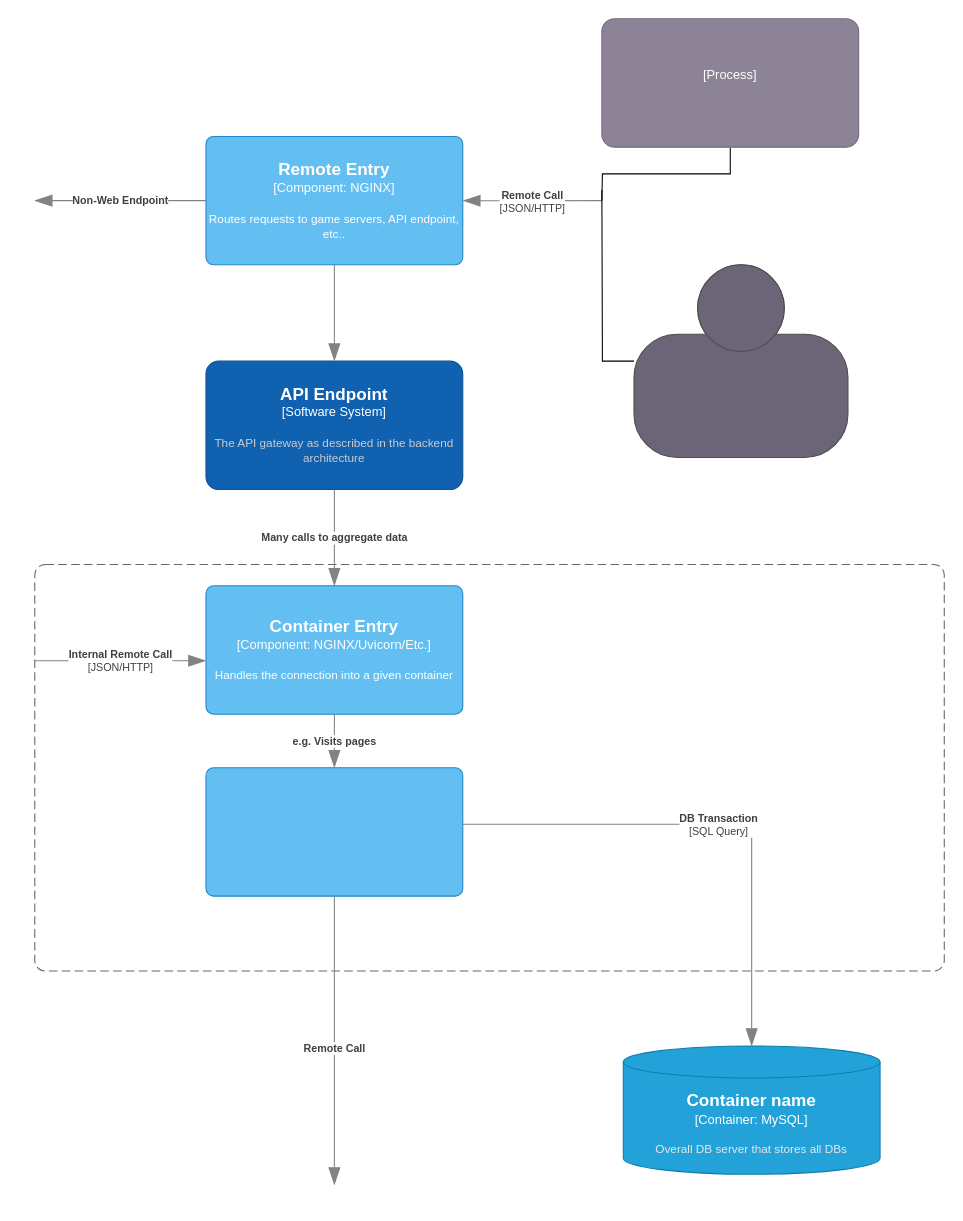
This 963x1221 diagram has some shape labels left out. The shapes that lost their labels are listed below. From the top down, each one's box as (x1, y1, x2, y2) in pixels, then its label:
(633, 264, 848, 457): [User]
(34, 563, 944, 971): potato_plant [Service]
(205, 767, 463, 896): Server Process [Component: Whatever process the server routes to]
